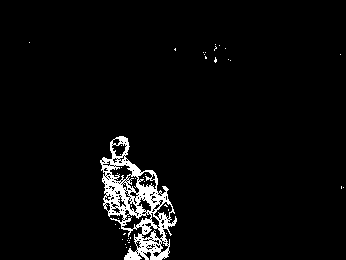person: (132, 170, 176, 259), (101, 136, 141, 231)
